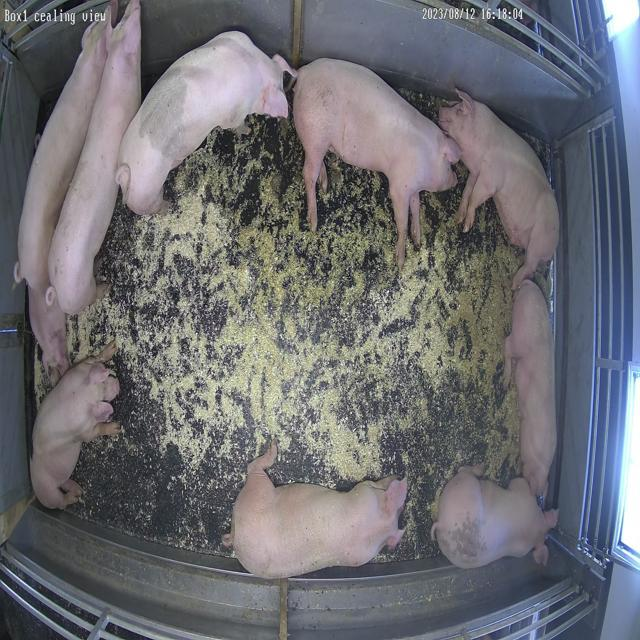Dirt: (455, 243, 520, 484)
Pig: (294, 58, 461, 266), (116, 31, 297, 214), (48, 0, 140, 314), (224, 442, 408, 579), (439, 91, 561, 290), (18, 20, 106, 290), (30, 345, 120, 510), (432, 467, 559, 570), (506, 280, 558, 496), (28, 287, 68, 382)
